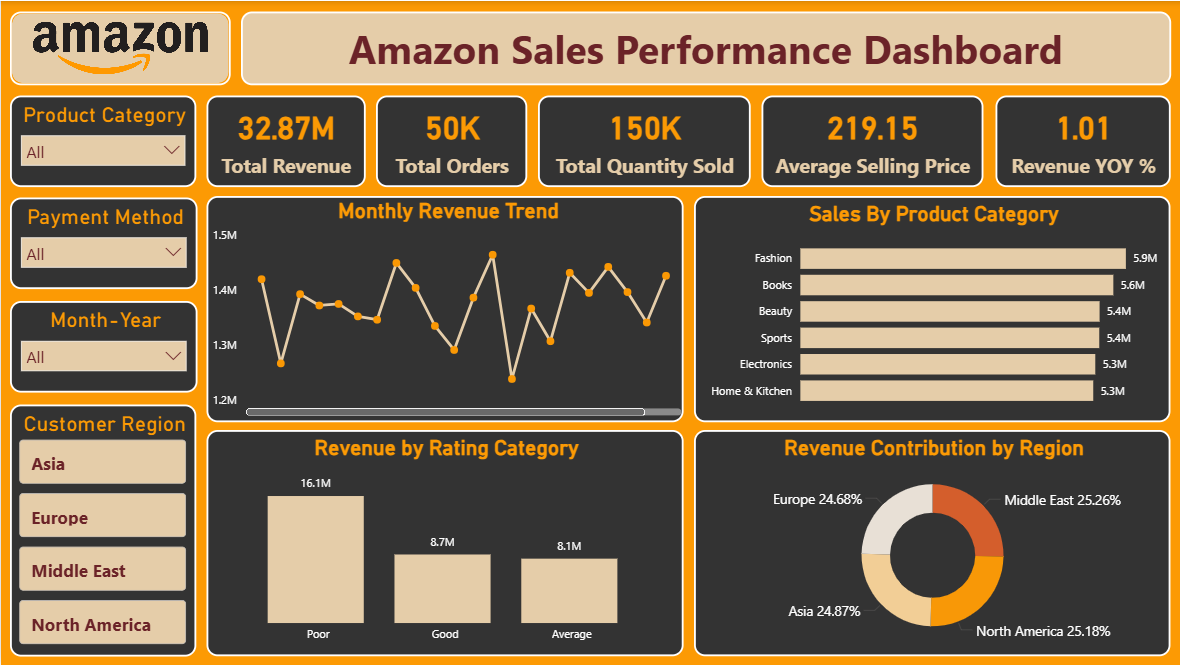

What the dashboard file says about the page in this screenshot:
{"tool":"powerbi","page":{"name":"Executive Sales Overview","canvas":[1280,720],"ordinal":0},"visuals":[{"type":"card","fields":{"Values":["_MEASURES.Total Revenue"]},"box":[222.8,102.5,172.4,99.2],"z":0},{"type":"card","fields":{"Values":["_MEASURES.Total Orders"]},"box":[406.6,102.5,164.3,99.2],"z":1000},{"type":"card","fields":{"Values":["_MEASURES.Total Quantity Sold"]},"box":[582.3,102.5,231,99.2],"z":2000},{"type":"card","fields":{"Values":["_MEASURES.Average Selling Price"]},"box":[824.7,102.5,240.7,99.2],"z":3000},{"type":"card","fields":{"Values":["_MEASURES.Revenue YOY %"]},"box":[1078.4,102.5,190.3,99.2],"z":4000},{"type":"barChart","title":"Sales By Product Category","fields":{"Category":["Dim_Product.product_category"],"Y":["_MEASURES.Total Revenue"]},"box":[751.7,211.7,516.7,245],"z":5000},{"type":"donutChart","title":"Revenue Contribution by Region","fields":{"Category":["Dim_Region.customer_region"],"Y":["_MEASURES.Revenue Region"]},"box":[751.7,465,516.7,245],"z":6000},{"type":"slicer","title":"Product Category","fields":{"Values":["Dim_Product.product_category"]},"box":[9.8,102.5,201.7,99],"z":7000},{"type":"advancedSlicerVisual","title":"Customer Region","fields":{"Values":["Dim_Region.customer_region"]},"box":[9.8,437.5,201.7,273.3],"z":8000},{"type":"slicer","title":"Payment Method","fields":{"Values":["Dim_PaymentMethod.payment_method"]},"box":[9.8,213.1,203.3,99],"z":9000},{"type":"slicer","title":"Month-Year","fields":{"Values":["Dim_Date.MonthYear"]},"box":[10,325,203.3,99],"z":10000},{"type":"lineChart","title":"Monthly Revenue Trend","fields":{"Category":["Dim_Date.MonthYear"],"Y":["_MEASURES.Total Revenue"]},"box":[223.3,211.7,517,245],"z":11000},{"type":"columnChart","title":"Revenue by Rating Category","fields":{"Category":["Fact_AmazonSales.Rating Category"],"Y":["_MEASURES.Total Revenue"]},"box":[223.3,465,517,245],"z":12000},{"type":"shape","box":[9.8,11.4,239.1,79.7],"z":13000},{"type":"textbox","box":[260,11.7,1008.3,80],"z":14000},{"type":"image","box":[26,9.8,206.6,83],"z":15000}]}

Visuals, with their boxes in screenshot pixels (x1, y1, x2, y2), scaled from the page's 1280x720 canvas onto the 1180x665 screenshot:
card - _MEASURES.Total Revenue: x1=205 y1=95 x2=364 y2=186
card - _MEASURES.Total Orders: x1=375 y1=95 x2=526 y2=186
card - _MEASURES.Total Quantity Sold: x1=537 y1=95 x2=750 y2=186
card - _MEASURES.Average Selling Price: x1=760 y1=95 x2=982 y2=186
card - _MEASURES.Revenue YOY %: x1=994 y1=95 x2=1170 y2=186
"Sales By Product Category" barChart: x1=693 y1=196 x2=1169 y2=422
"Revenue Contribution by Region" donutChart: x1=693 y1=429 x2=1169 y2=656
"Product Category" slicer: x1=9 y1=95 x2=195 y2=186
"Customer Region" advancedSlicerVisual: x1=9 y1=404 x2=195 y2=657
"Payment Method" slicer: x1=9 y1=197 x2=196 y2=288
"Month-Year" slicer: x1=9 y1=300 x2=197 y2=392
"Monthly Revenue Trend" lineChart: x1=206 y1=196 x2=682 y2=422
"Revenue by Rating Category" columnChart: x1=206 y1=429 x2=682 y2=656
shape: x1=9 y1=11 x2=229 y2=84
textbox: x1=240 y1=11 x2=1169 y2=85
image: x1=24 y1=9 x2=214 y2=86
